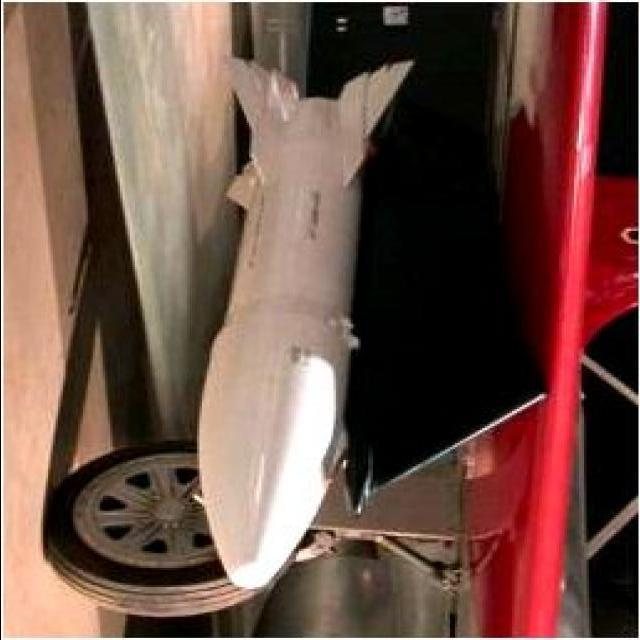missile: (186, 59, 426, 590)
